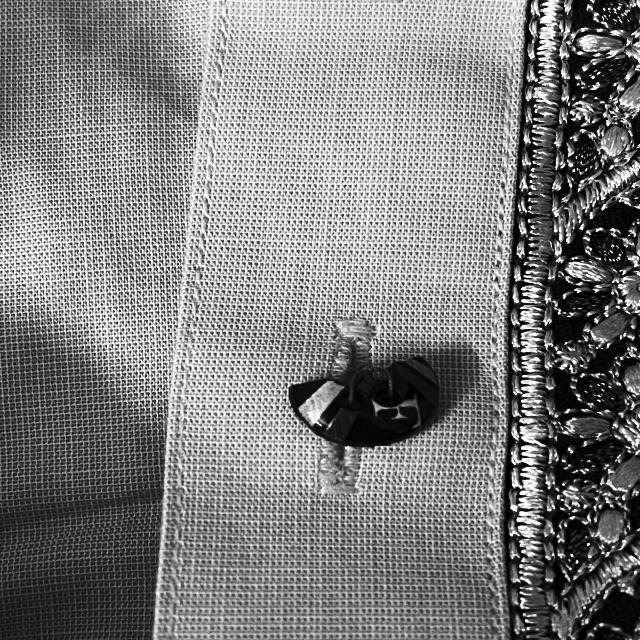Broken_button: (283, 320, 458, 478)
